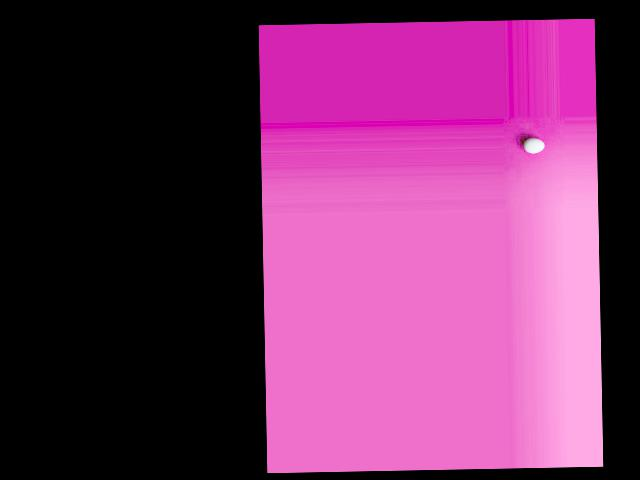egg: (523, 138, 544, 154)
